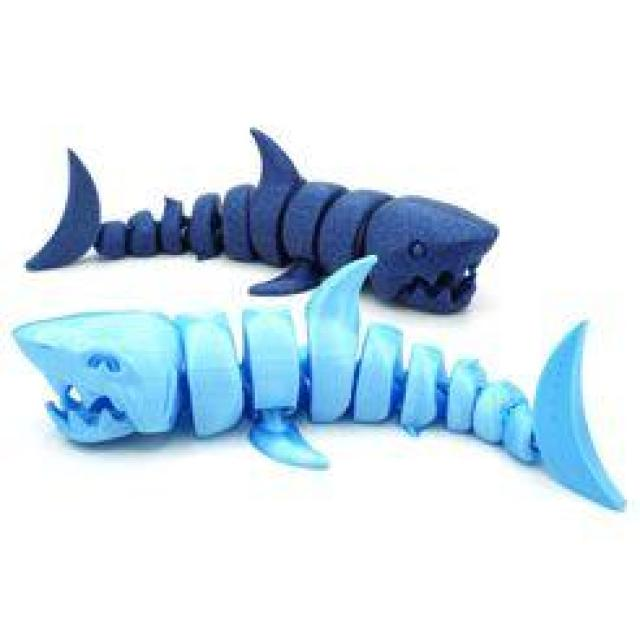Without deffect: (13, 127, 639, 542)
